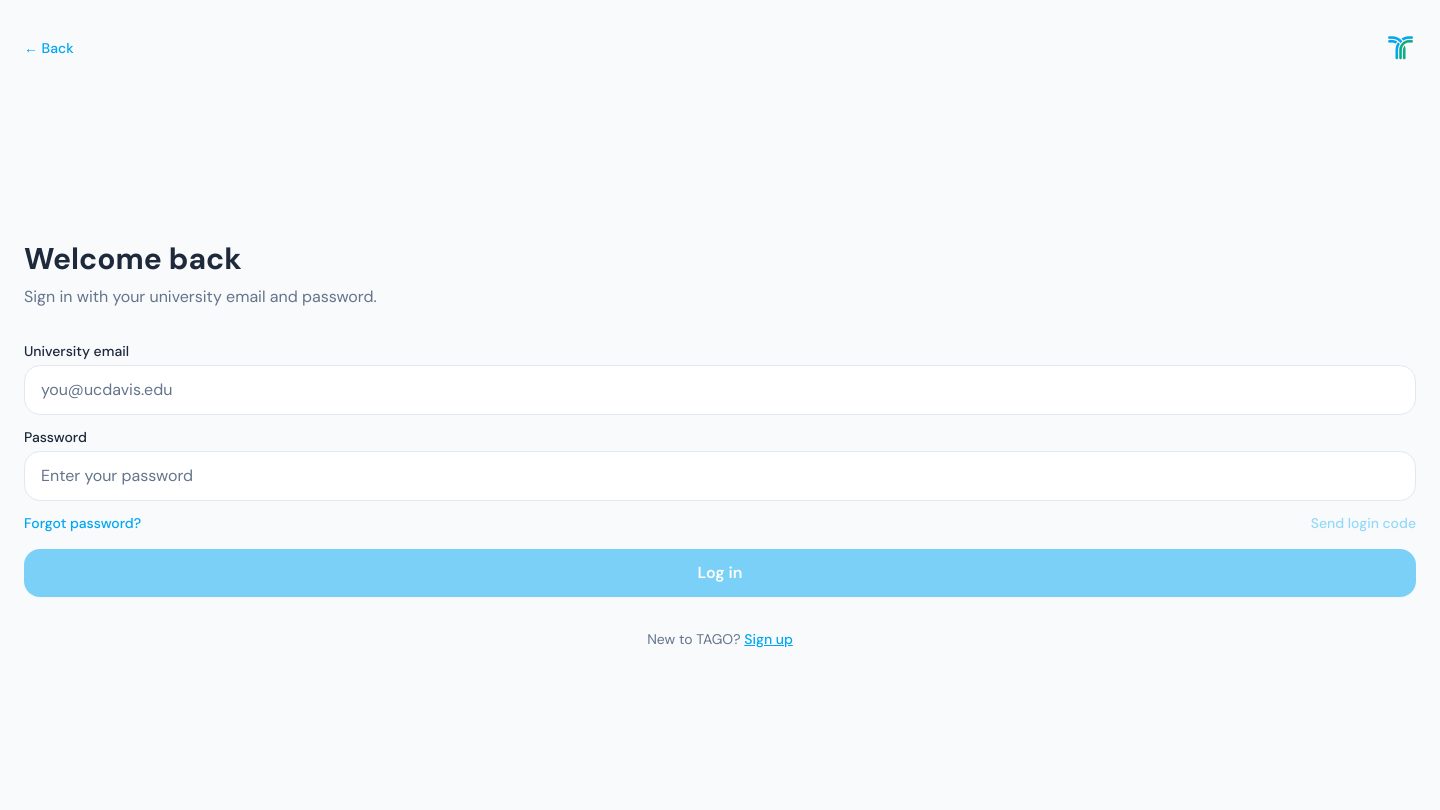
Test: Login screen › shows "Incorrect email or password" for invalid-credentials error
Type "maya@ucdavis.edu" into the field with test id "email-input" at (720, 390), box [24,365,1416,415]
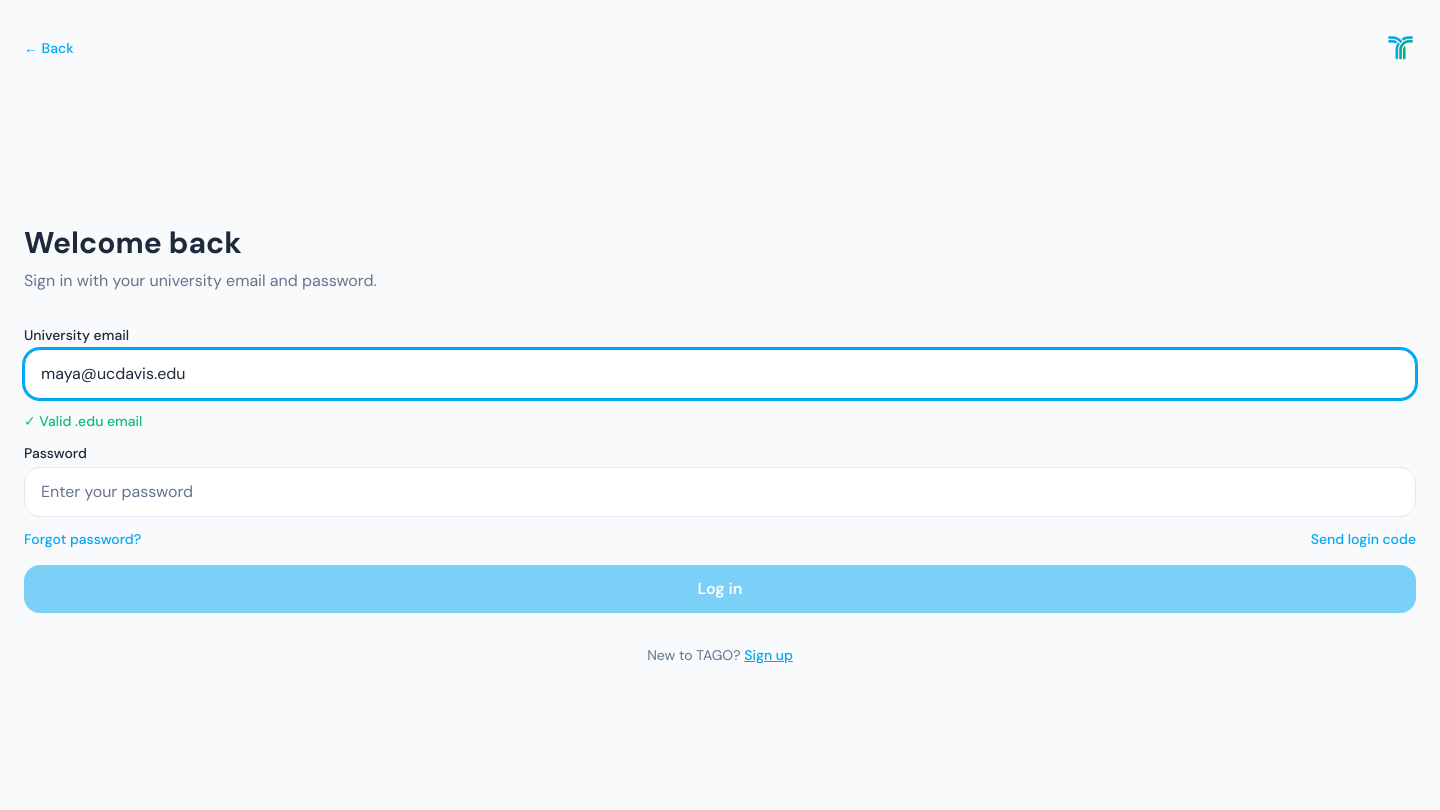
Type "wrongpass1" into the password field with test id "password-input" at (720, 492), box [24,467,1416,517]
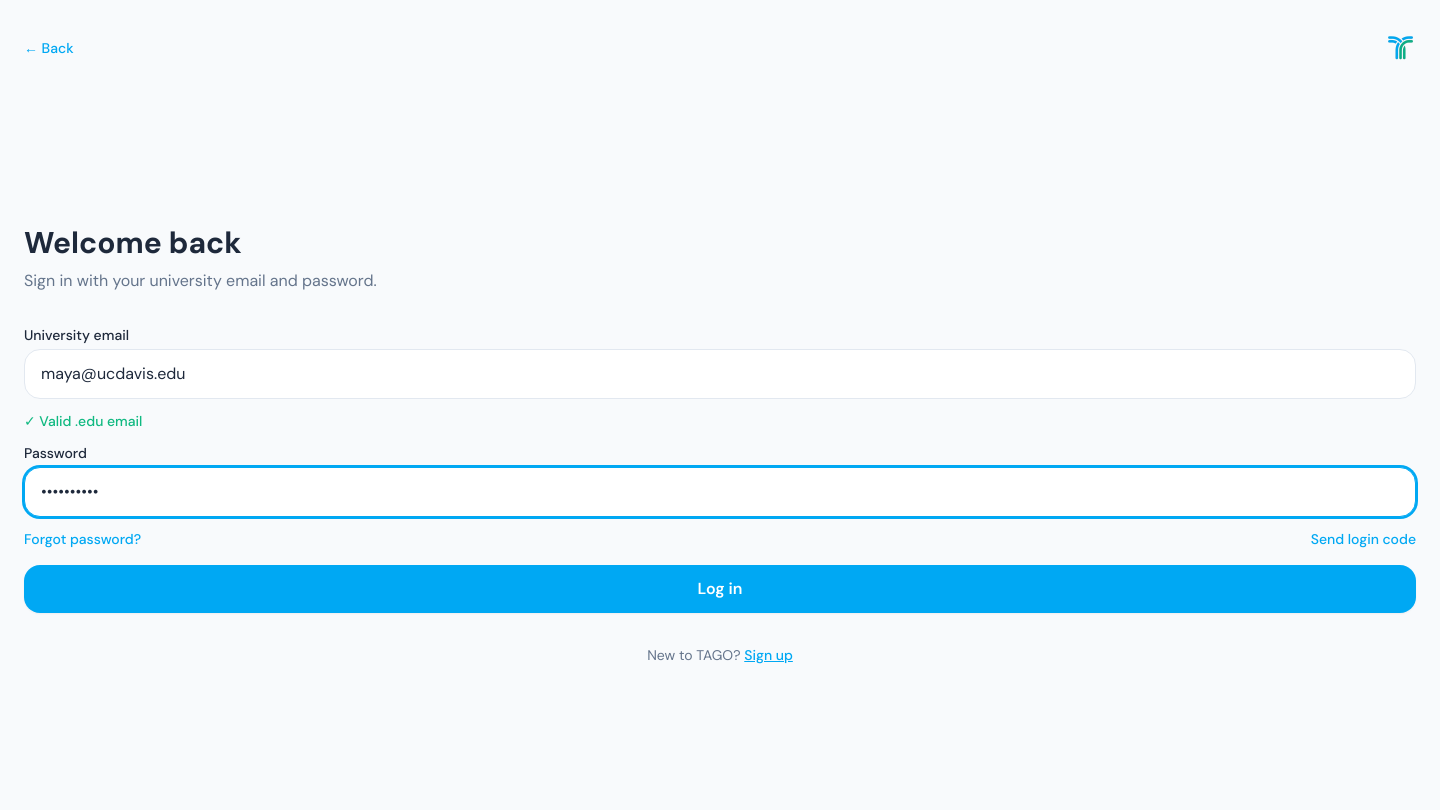
Click the button with test id "submit-button" at (720, 589), box [24,565,1416,613]
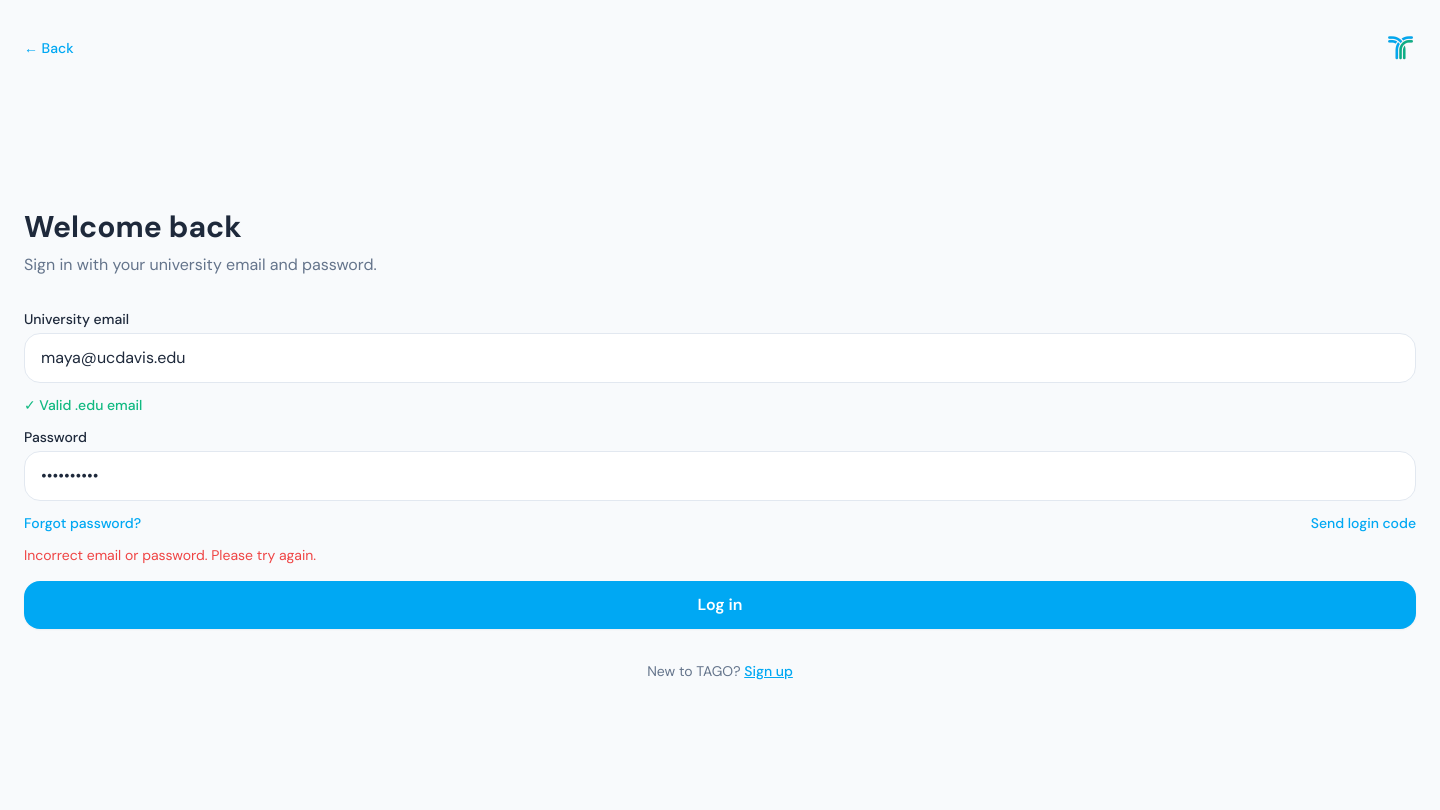
Check: the message with test id "server-error" shows "Incorrect email or password", box [24,546,316,564]
